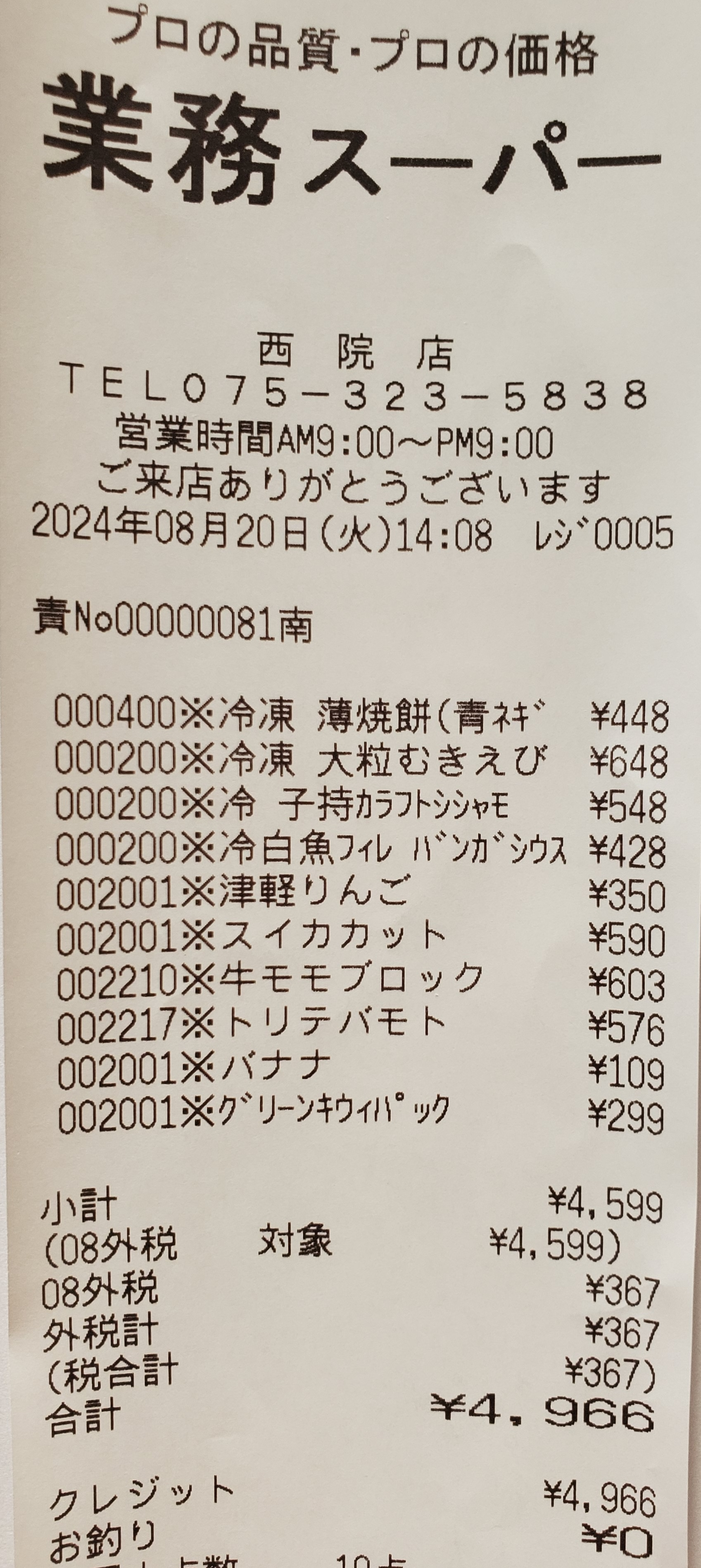Date: (28, 507, 322, 553)
Shopname: (30, 64, 694, 234)
Telnum: (177, 367, 675, 415)
Totalpay: (28, 1389, 680, 1444)
